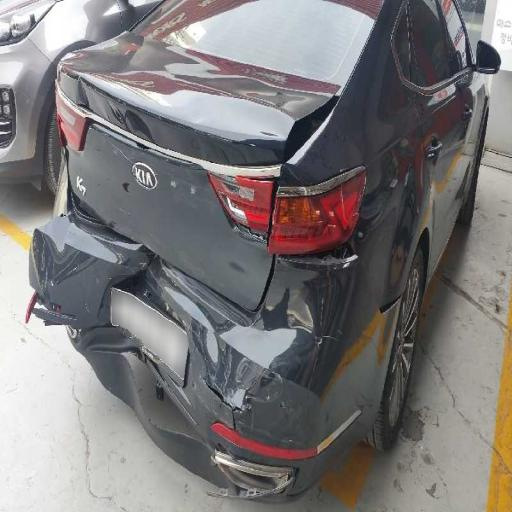broken: (17, 108, 343, 468)
